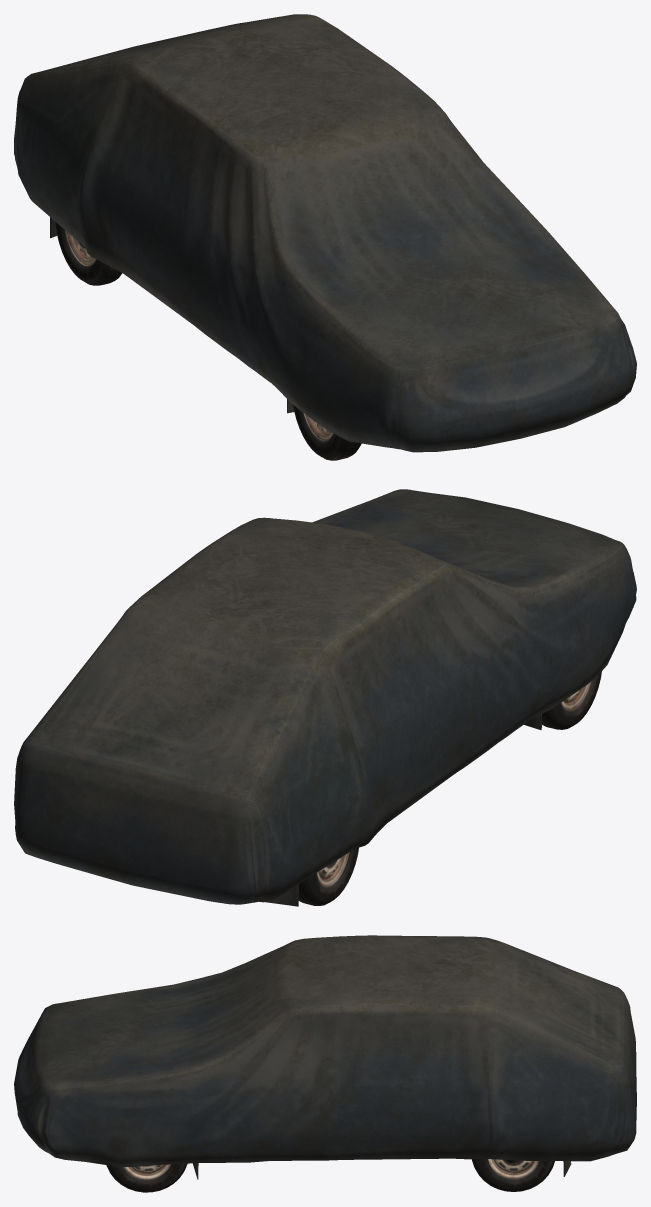
The model's file is car.glb.
3 renders of one model, top to bottom at view 1: azimuth 30°, elevation 25°; view 2: azimuth 150°, elevation 25°; view 3: azimuth 270°, elevation 25°, orthographic. The views are drawn at different scales.
Parts seen in each view (by area): view 1: car; view 2: car; view 3: car.
Boxes of the visible parts, <box> form: car: <box>14,14,636,460</box>; car: <box>14,489,636,906</box>; car: <box>14,935,636,1192</box>.
Size of the model in its own units: 1.79 by 1.41 by 4.38.
2 materials, 2 textured.
